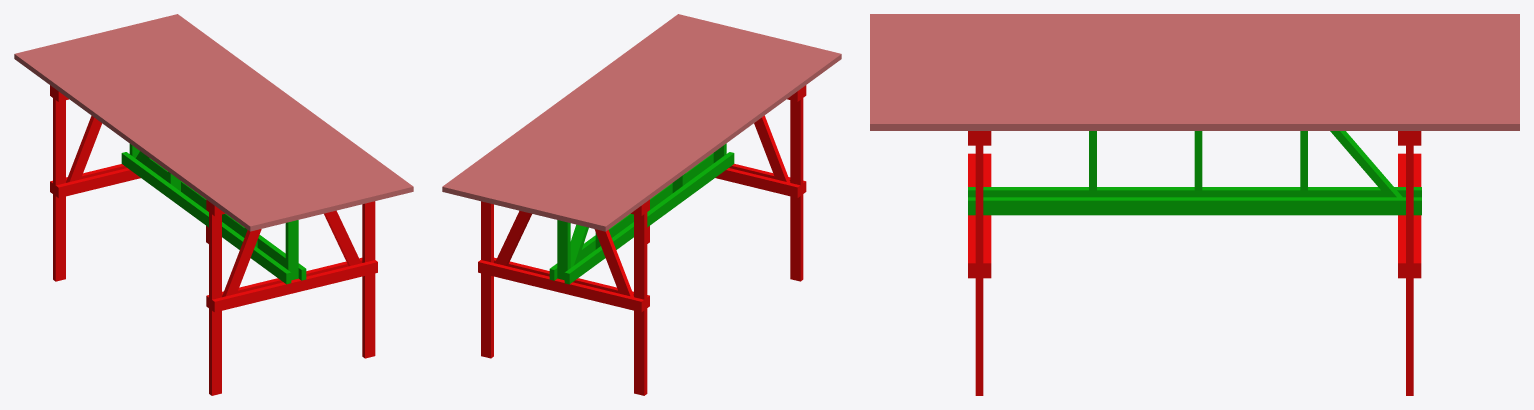
Rendered from result.glb.
3 renders of one model, left to right at view 1: azimuth 30°, elevation 25°; view 2: azimuth 150°, elevation 25°; view 3: azimuth 270°, elevation 25°, orthographic. The views are drawn at different scales.
Parts seen in each view (by area): view 1: 0cb62ec3-3ea5-4b5c-8dc4-bd2d17f0708c__Box, 8322012e-d9cb-40b2-8786-c0b233a8d3f7__undefined, 1e8ba7d2-90fc-4435-8cc4-6776fd982821__undefined, e55a1859-c5f8-451d-90fa-b54ff0971433__undefined, 41887aa7-a94a-4b02-a951-ba7b8bcf1d3d__undefined, 24f91f23-3c0b-476e-b80a-86173f039c0e__undefined, dd118dea-5003-495f-beef-9d270761399b__undefined, 5db30f25-a276-4483-b37b-cb5cfa76e9b0__undefined, 4e262c8f-a99e-445a-8c05-001729f11244__undefined, ed5f037c-28ea-4100-a4fa-f6388eded8de__undefined, 7adcd9f4-b585-4c5e-ae00-68e3d3c110bf__undefined, 103aa586-8c11-40b3-bba2-920459fb374f__undefined (+16 smaller); view 2: 0cb62ec3-3ea5-4b5c-8dc4-bd2d17f0708c__Box, f8e9eeeb-6301-4e6a-9662-816235c6965b__undefined, f82942d6-098c-43e5-9398-2163e1cfd6d8__undefined, 8322012e-d9cb-40b2-8786-c0b233a8d3f7__undefined, 7adcd9f4-b585-4c5e-ae00-68e3d3c110bf__undefined, 1e8ba7d2-90fc-4435-8cc4-6776fd982821__undefined, 41887aa7-a94a-4b02-a951-ba7b8bcf1d3d__undefined, 62b1bd9f-4c56-49ff-aa04-76d0da095824__undefined, 5db30f25-a276-4483-b37b-cb5cfa76e9b0__undefined, ed5f037c-28ea-4100-a4fa-f6388eded8de__undefined, 103aa586-8c11-40b3-bba2-920459fb374f__undefined, e55a1859-c5f8-451d-90fa-b54ff0971433__undefined (+17 smaller); view 3: 4e262c8f-a99e-445a-8c05-001729f11244__undefined, 00924bef-1c9c-4f45-a427-43653d19fcb3__strutH, 8322012e-d9cb-40b2-8786-c0b233a8d3f7__undefined, e3f49d1f-93a6-4fa2-adc5-94cbb8e8fa8c__undefined, f8e9eeeb-6301-4e6a-9662-816235c6965b__undefined, 7adcd9f4-b585-4c5e-ae00-68e3d3c110bf__undefined, e55a1859-c5f8-451d-90fa-b54ff0971433__undefined, 41887aa7-a94a-4b02-a951-ba7b8bcf1d3d__undefined, 62b1bd9f-4c56-49ff-aa04-76d0da095824__undefined, 24f91f23-3c0b-476e-b80a-86173f039c0e__undefined, 0cb62ec3-3ea5-4b5c-8dc4-bd2d17f0708c__Box, ed5f037c-28ea-4100-a4fa-f6388eded8de__undefined (+14 smaller).
Boxes of the visible parts, x1,y1,x2,y2 form: 0cb62ec3-3ea5-4b5c-8dc4-bd2d17f0708c__Box: (14,51,260,231); 8322012e-d9cb-40b2-8786-c0b233a8d3f7__undefined: (35,46,280,226); 1e8ba7d2-90fc-4435-8cc4-6776fd982821__undefined: (76,36,321,216); e55a1859-c5f8-451d-90fa-b54ff0971433__undefined: (106,29,352,208); 41887aa7-a94a-4b02-a951-ba7b8bcf1d3d__undefined: (117,26,362,206); 24f91f23-3c0b-476e-b80a-86173f039c0e__undefined: (137,21,382,201); dd118dea-5003-495f-beef-9d270761399b__undefined: (147,19,393,198); 5db30f25-a276-4483-b37b-cb5cfa76e9b0__undefined: (158,16,403,196); 4e262c8f-a99e-445a-8c05-001729f11244__undefined: (168,14,413,194); ed5f037c-28ea-4100-a4fa-f6388eded8de__undefined: (25,49,270,228); 7adcd9f4-b585-4c5e-ae00-68e3d3c110bf__undefined: (66,39,311,218); 103aa586-8c11-40b3-bba2-920459fb374f__undefined: (86,34,331,213); 0cb62ec3-3ea5-4b5c-8dc4-bd2d17f0708c__Box: (595,51,841,231); f8e9eeeb-6301-4e6a-9662-816235c6965b__undefined: (554,41,800,221); f82942d6-098c-43e5-9398-2163e1cfd6d8__undefined: (513,31,759,211); 8322012e-d9cb-40b2-8786-c0b233a8d3f7__undefined: (575,46,820,226); 7adcd9f4-b585-4c5e-ae00-68e3d3c110bf__undefined: (544,39,790,219); 1e8ba7d2-90fc-4435-8cc4-6776fd982821__undefined: (534,36,779,216); 41887aa7-a94a-4b02-a951-ba7b8bcf1d3d__undefined: (493,26,738,206); 62b1bd9f-4c56-49ff-aa04-76d0da095824__undefined: (483,24,728,203); 5db30f25-a276-4483-b37b-cb5cfa76e9b0__undefined: (452,16,697,196); ed5f037c-28ea-4100-a4fa-f6388eded8de__undefined: (585,49,830,229); 103aa586-8c11-40b3-bba2-920459fb374f__undefined: (524,34,769,213); e55a1859-c5f8-451d-90fa-b54ff0971433__undefined: (503,29,749,209); 4e262c8f-a99e-445a-8c05-001729f11244__undefined: (870,117,1519,130); 00924bef-1c9c-4f45-a427-43653d19fcb3__strutH: (968,197,1421,215); 8322012e-d9cb-40b2-8786-c0b233a8d3f7__undefined: (870,27,1519,34); e3f49d1f-93a6-4fa2-adc5-94cbb8e8fa8c__undefined: (870,34,1519,41); f8e9eeeb-6301-4e6a-9662-816235c6965b__undefined: (870,41,1519,48); 7adcd9f4-b585-4c5e-ae00-68e3d3c110bf__undefined: (870,48,1519,55); e55a1859-c5f8-451d-90fa-b54ff0971433__undefined: (870,75,1519,82); 41887aa7-a94a-4b02-a951-ba7b8bcf1d3d__undefined: (870,82,1519,89); 62b1bd9f-4c56-49ff-aa04-76d0da095824__undefined: (870,89,1519,96); 24f91f23-3c0b-476e-b80a-86173f039c0e__undefined: (870,96,1519,103); 0cb62ec3-3ea5-4b5c-8dc4-bd2d17f0708c__Box: (870,14,1519,20); ed5f037c-28ea-4100-a4fa-f6388eded8de__undefined: (870,21,1519,27).
Size of the model in its own units: 800 by 924 by 2000.
